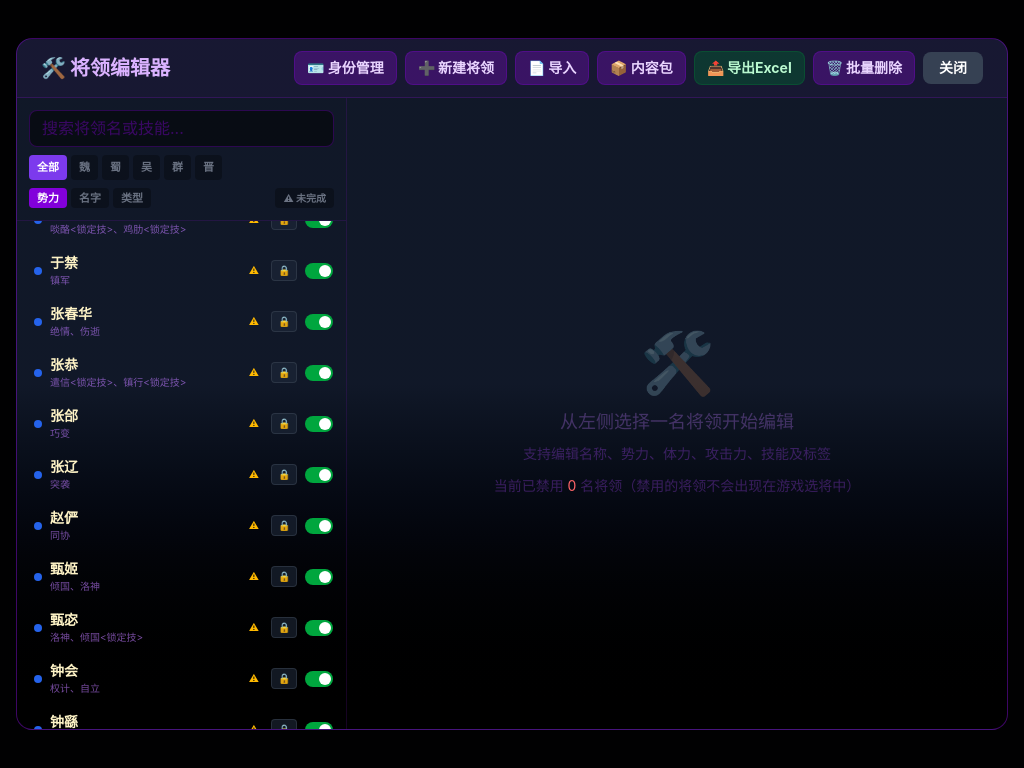
Test: 拼积木→生成文字→文字还能改 › 挑一块积木，下面那句卡面话就替用户写好了
(page scrolled)
Click the button "张辽 突袭 ⚠": (146, 475) [26,451,267,498]
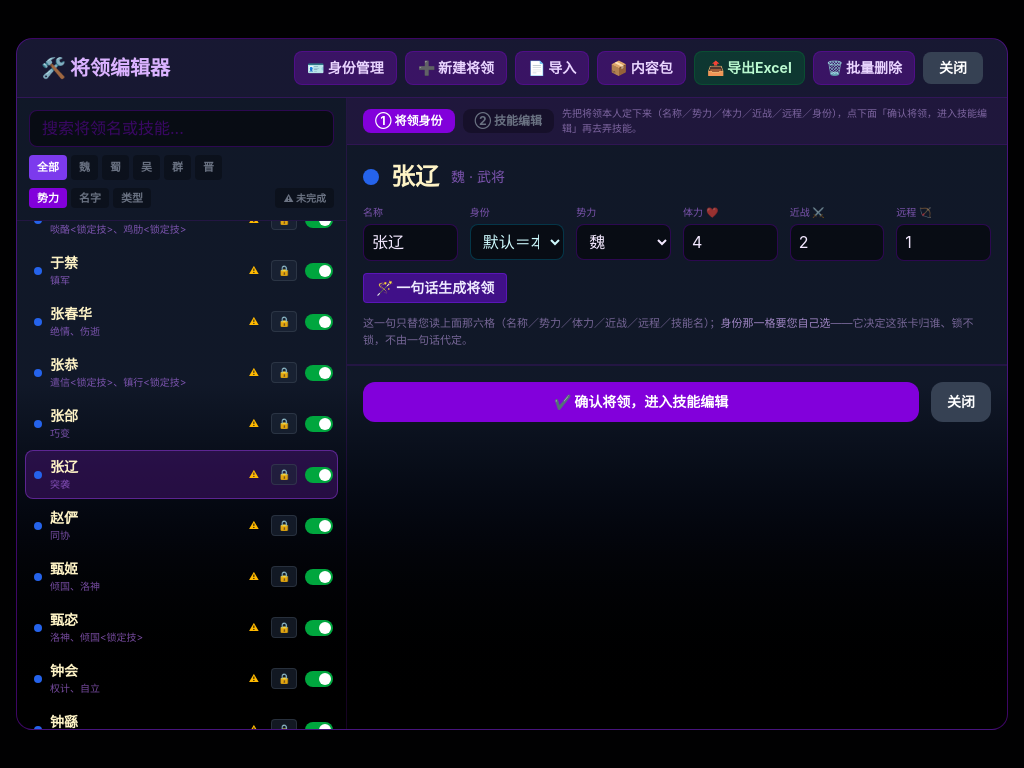
Click the button "② 技能编辑": (508, 121) [462,109,554,133]
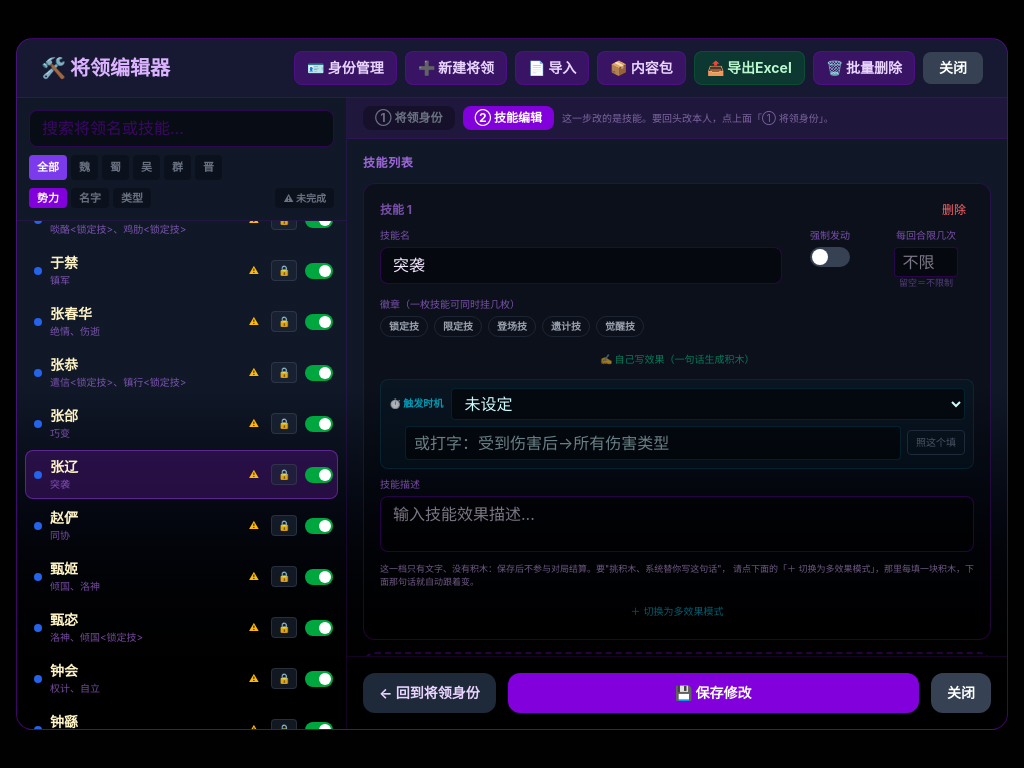
Click the button "＋ 切换为多效果模式": (677, 611) [380,600,974,623]
(page scrolled)
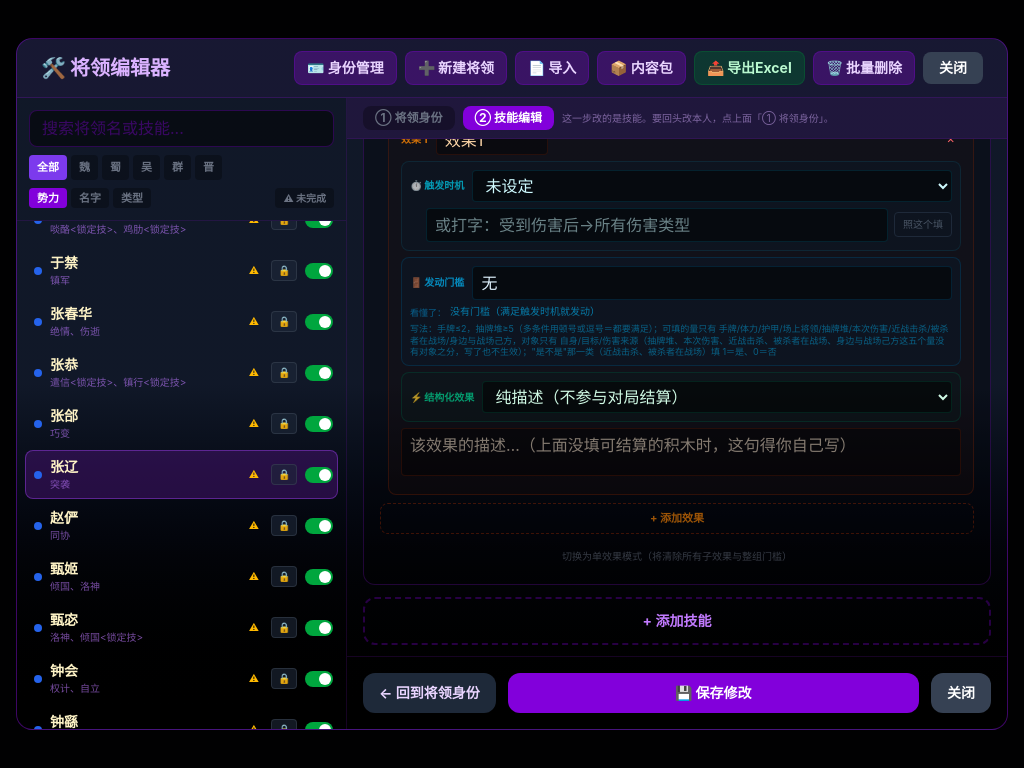
Select "摸牌" in the dropdown next to "⚡ 结构化效果": (717, 397) [482,381,952,413]
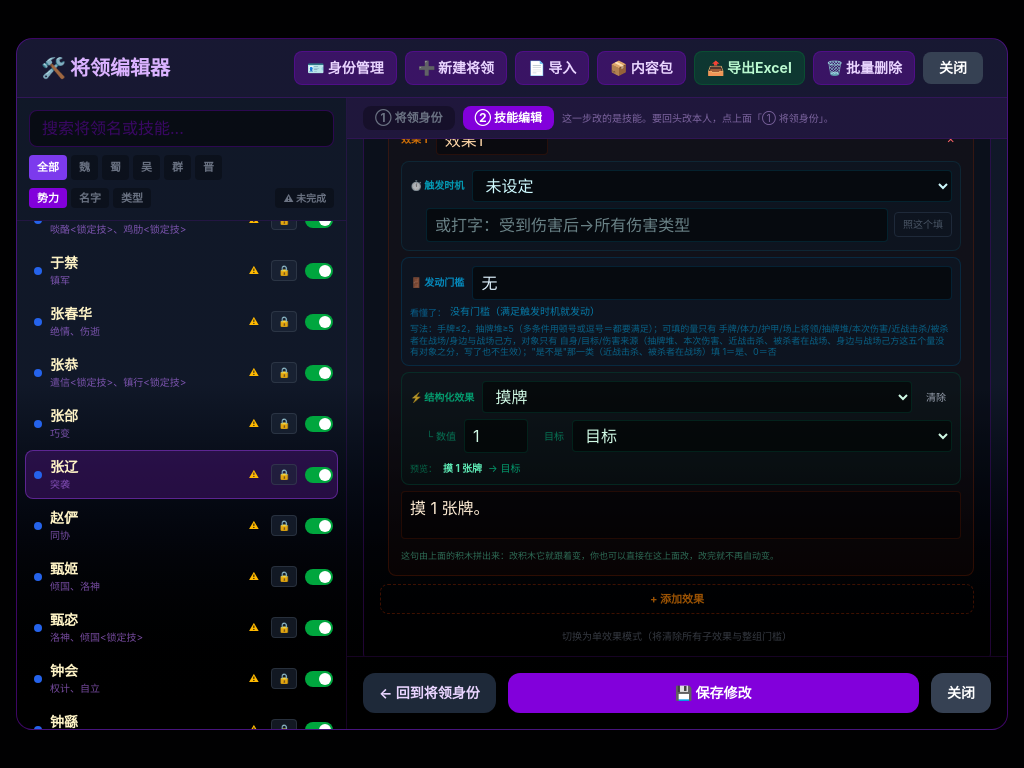
Result: the text box named "效果1卡面文字" holds "摸 1 张牌。" at [401,491,961,539]
Replace the text in the number field with "3": (496, 436) [464,419,528,453]
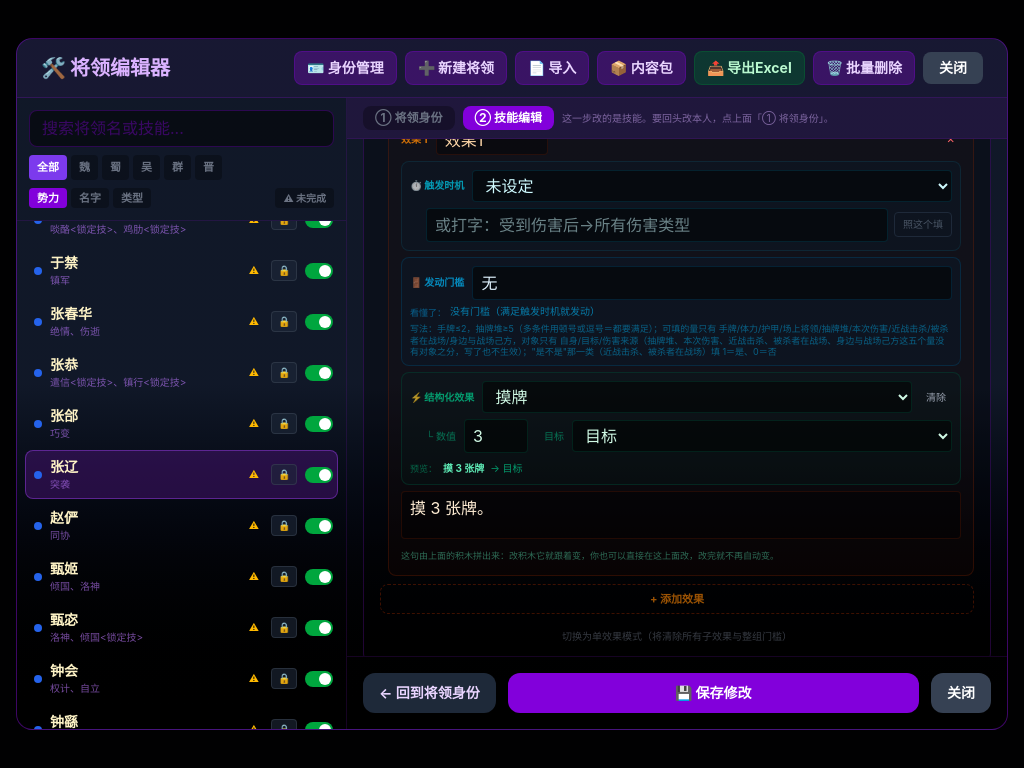
Result: the text box named "效果1卡面文字" holds "摸 3 张牌。" at [401,491,961,539]
